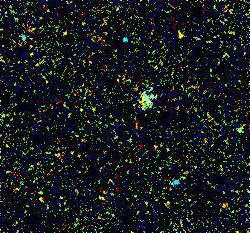star: (166, 16, 196, 46)
